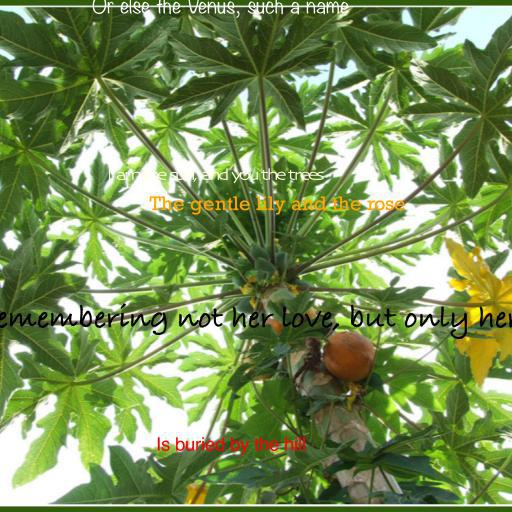Bradley Hand: (0, 303, 512, 340)
Noteworthy: (91, 0, 349, 18)
Rockwell: (148, 196, 406, 215)
SF Pro: (156, 437, 306, 455)
Skia: (106, 168, 322, 184)
